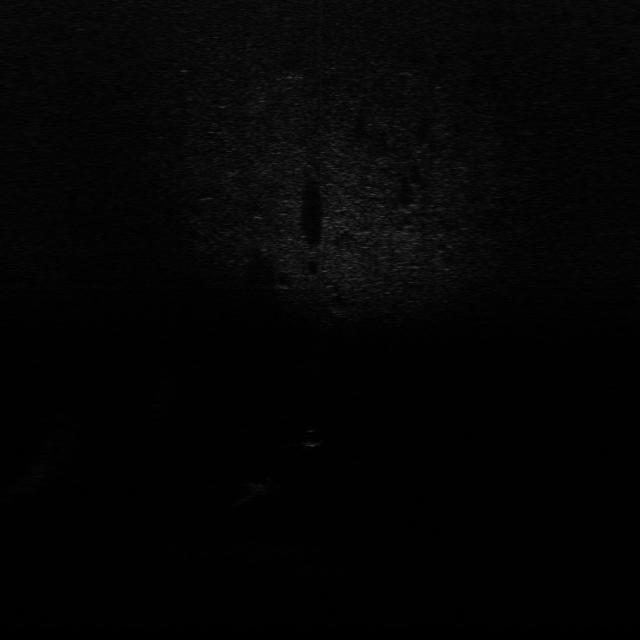ball: (296, 427, 326, 448)
square cage: (250, 474, 284, 498)
